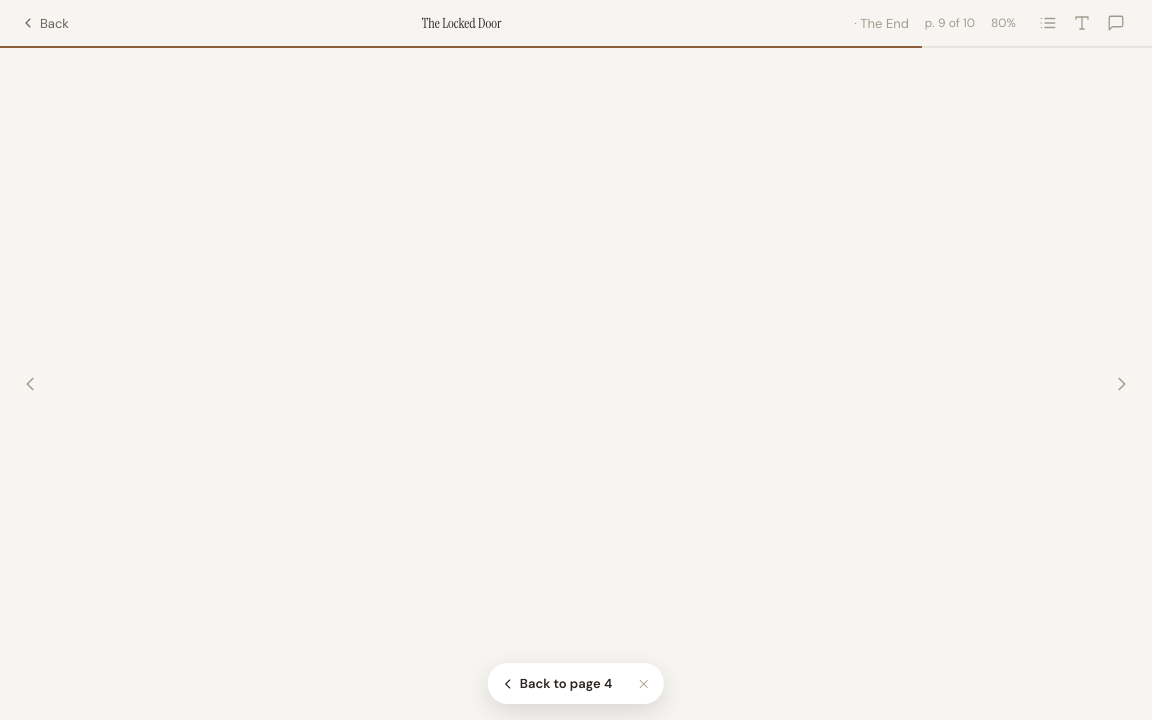
Test: ReaderScreen › coming back after following a link inside the book › goes back to the exact page it left, saves it, and puts the button away
Click the button "Back to page 4": click(559, 684) [492,667,626,700]
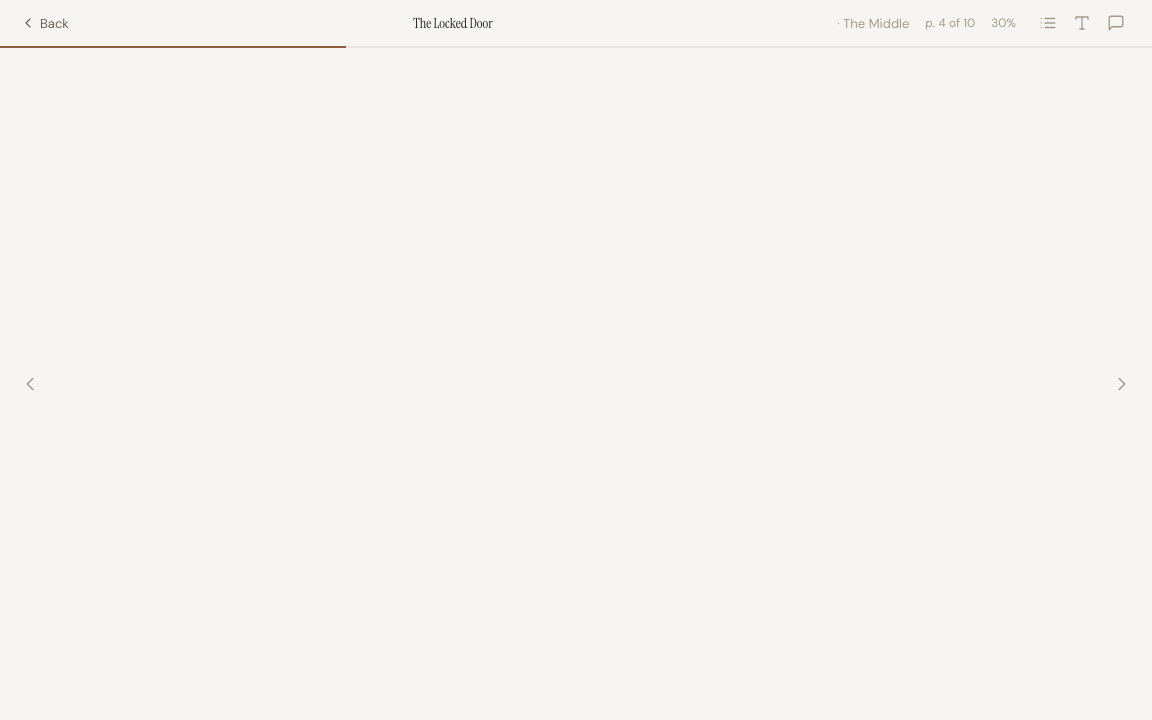
Expected: the button "Back to" is gone
